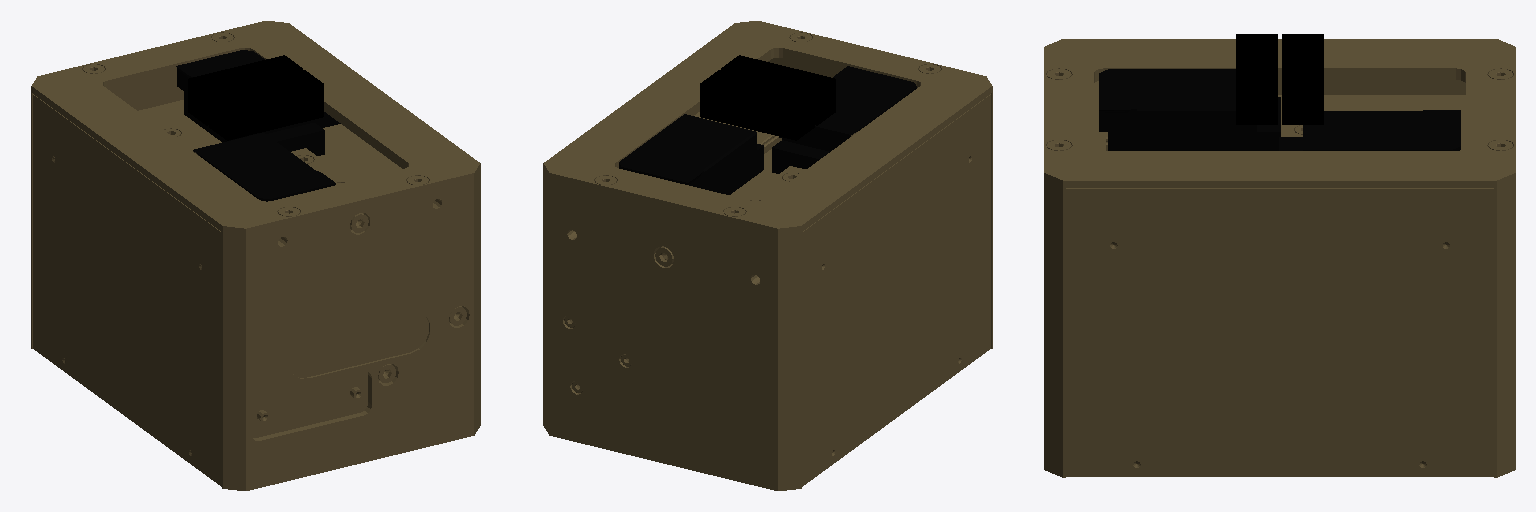
robot.urdf — pg70:
<?xml version="1.0" ?>
<!-- =================================================================================== -->
<!-- |    This document was autogenerated by xacro from urdf/robot.urdf.xacro          | -->
<!-- |    EDITING THIS FILE BY HAND IS NOT RECOMMENDED                                 | -->
<!-- =================================================================================== -->
<robot name="pg70">
  <material name="Schunk/LightGrey">
    <color rgba="0.7 0.7 0.7 1.0"/>
  </material>
  <material name="Schunk/DarkGrey">
    <color rgba="0.4 0.4 0.4 1.0"/>
  </material>
  <material name="Schunk/Black">
    <color rgba="0.0 0.0 0.0 1.0"/>
  </material>
  <material name="Schunk/DarkGolden">
    <color rgba="0.4 0.4 0.3 1.0"/>
  </material>
  <material name="Schunk/Blue">
    <color rgba="0.0 0.0 0.8 1.0"/>
  </material>
  <!-- Used for fixing robot to Gazebo -->
  <link name="world"/>
  <joint name="pg70_podest_joint" type="fixed">
    <origin rpy="0 0 0" xyz="0 0 0.026"/>
    <parent link="world"/>
    <child link="pg70_podest_link"/>
  </joint>
  <link name="pg70_podest_link">
    <inertial>
      <mass value="0.01"/>
      <origin xyz="0 0 0"/>
      <inertia ixx="0.001" ixy="0.0" ixz="0.0" iyy="0.001" iyz="0.0" izz="0.001"/>
    </inertial>
    <visual>
      <origin rpy="0 3.141592653589793 0" xyz="0 0 0"/>
      <geometry>
        <mesh filename="package://schunk_description/meshes/lwa4p/arm_base_link.stl"/>
      </geometry>
    </visual>
    <collision>
      <origin rpy="0 3.141592653589793 0" xyz="0 0 0"/>
      <geometry>
        <mesh filename="package://schunk_description/meshes/lwa4p/arm_base_link.stl"/>
      </geometry>
    </collision>
  </link>
  <joint name="pg70_palm_joint" type="fixed">
    <origin rpy="0 0 0" xyz="0 0 0.10"/>
    <parent link="pg70_podest_link"/>
    <child link="pg70_palm_link"/>
  </joint>
  <link name="pg70_palm_link">
    <inertial>
      <origin rpy="0 0 0" xyz="0 0 0"/>
      <mass value="1"/>
      <inertia ixx="0.01" ixy="0" ixz="0" iyy="0.01" iyz="0" izz="0.01"/>
    </inertial>
    <visual>
      <geometry>
        <mesh filename="package://schunk_description/meshes/pg70/pg70.dae"/>
      </geometry>
    </visual>
    <collision>
      <origin rpy="0 0 0" xyz="0 0 0.03145"/>
      <geometry>
        <box size="0.082 0.114 0.080"/>
      </geometry>
    </collision>
  </link>
  <joint name="pg70_finger_left_joint" type="prismatic">
    <origin rpy="0 0 0" xyz="0 0.0055 0.0789"/>
    <parent link="pg70_palm_link"/>
    <child link="pg70_finger_left_link"/>
    <axis xyz="0 1 0"/>
    <limit effort="10" lower="-0.001" upper="0.0301" velocity="0.041"/>
  </joint>
  <link name="pg70_finger_left_link">
    <inertial>
      <origin rpy="0 0 0" xyz="0 0 0"/>
      <mass value="1"/>
      <inertia ixx="0.01" ixy="0" ixz="0" iyy="0.01" iyz="0" izz="0.01"/>
    </inertial>
    <visual>
      <geometry>
        <box size="0.03 0.01 0.01"/>
      </geometry>
      <material name="black">
        <color rgba="0 0 0 1"/>
      </material>
    </visual>
    <collision>
      <geometry>
        <box size="0.03 0.01 0.01"/>
      </geometry>
      <material name="black">
        <color rgba="0 0 0 1"/>
      </material>
    </collision>
  </link>
  <joint name="pg70_finger_right_joint" type="prismatic">
    <origin rpy="-0 0 0" xyz="0 -0.0055 0.0789"/>
    <parent link="pg70_palm_link"/>
    <child link="pg70_finger_right_link"/>
    <axis xyz="0 -1 0"/>
    <mimic joint="pg70_finger_left_joint" multiplier="1" offset="0"/>
    <limit effort="10" lower="-0.001" upper="0.0301" velocity="0.041"/>
  </joint>
  <link name="pg70_finger_right_link">
    <inertial>
      <origin rpy="0 0 0" xyz="0 0 0"/>
      <mass value="1"/>
      <inertia ixx="0.01" ixy="0" ixz="0" iyy="0.01" iyz="0" izz="0.01"/>
    </inertial>
    <visual>
      <geometry>
        <box size="0.03 0.01 0.01"/>
      </geometry>
      <material name="black">
        <color rgba="0 0 0 1"/>
      </material>
    </visual>
    <collision>
      <geometry>
        <box size="0.03 0.01 0.01"/>
      </geometry>
      <material name="black">
        <color rgba="0 0 0 1"/>
      </material>
    </collision>
  </link>
  <gazebo reference="pg70_palm_link">
    <gravity>true</gravity>
    <self_collide>false</self_collide>
  </gazebo>
  <gazebo reference="pg70_finger_left_link">
    <gravity>true</gravity>
    <self_collide>false</self_collide>
  </gazebo>
  <gazebo reference="pg70_finger_right_link">
    <gravity>true</gravity>
    <self_collide>false</self_collide>
  </gazebo>
  <transmission name="pg70_finger_left_trans">
    <type>transmission_interface/SimpleTransmission</type>
    <joint name="pg70_finger_left_joint">
      <hardwareInterface>hardware_interface/PositionJointInterface</hardwareInterface>
      <hardwareInterface>hardware_interface/VelocityJointInterface</hardwareInterface>
      <!--hardwareInterface>EffortJointInterface</hardwareInterface-->
    </joint>
    <actuator name="pg70_finger_left_motor">
      <mechanicalReduction>1</mechanicalReduction>
    </actuator>
  </transmission>
  <transmission name="pg70_finger_right_trans">
    <type>transmission_interface/SimpleTransmission</type>
    <joint name="pg70_finger_right_joint">
      <hardwareInterface>hardware_interface/PositionJointInterface</hardwareInterface>
      <hardwareInterface>hardware_interface/VelocityJointInterface</hardwareInterface>
      <!--hardwareInterface>EffortJointInterface</hardwareInterface-->
    </joint>
    <actuator name="pg70_finger_right_motor">
      <mechanicalReduction>1</mechanicalReduction>
    </actuator>
  </transmission>
  <!-- ros_control plugin -->
  <gazebo>
    <plugin filename="libhwi_switch_gazebo_ros_control.so" name="ros_control">
      <robotNamespace>pg70</robotNamespace>
      <filterJointsParam>joint_names</filterJointsParam>
    </plugin>
  </gazebo>
</robot>

--- Render facts (derived) ---
Views: 3 orthographic renders of the robot side by side, from view 1: azimuth 30°, elevation 25°; view 2: azimuth 150°, elevation 25°; view 3: azimuth 270°, elevation 25°.
Model pg70 with 5 links and 4 joints (2 prismatic, 2 fixed), rooted at world, posed all joints at 0.
Links seen in each view (by area): view 1: pg70_palm_link, pg70_finger_right_link, pg70_finger_left_link; view 2: pg70_palm_link, pg70_finger_left_link, pg70_finger_right_link; view 3: pg70_palm_link, pg70_finger_left_link, pg70_finger_right_link.
Link boxes in pixels (x1=…): pg70_palm_link: x1=31, y1=21, x2=480, y2=490; pg70_finger_right_link: x1=209, y1=70, x2=323, y2=140; pg70_finger_left_link: x1=188, y1=55, x2=302, y2=125; pg70_palm_link: x1=543, y1=21, x2=992, y2=490; pg70_finger_left_link: x1=700, y1=70, x2=814, y2=140; pg70_finger_right_link: x1=721, y1=55, x2=835, y2=125; pg70_palm_link: x1=1044, y1=39, x2=1515, y2=477; pg70_finger_left_link: x1=1282, y1=34, x2=1323, y2=124; pg70_finger_right_link: x1=1236, y1=34, x2=1277, y2=124.
Bounding box of the posed robot: 0.08 × 0.112 × 0.0909 m (x, y, z).
1 mesh visuals loaded from 2 distinct referenced files (1 Collada DAE); not drawn: 1 (reference not matched to a file when rendering).
